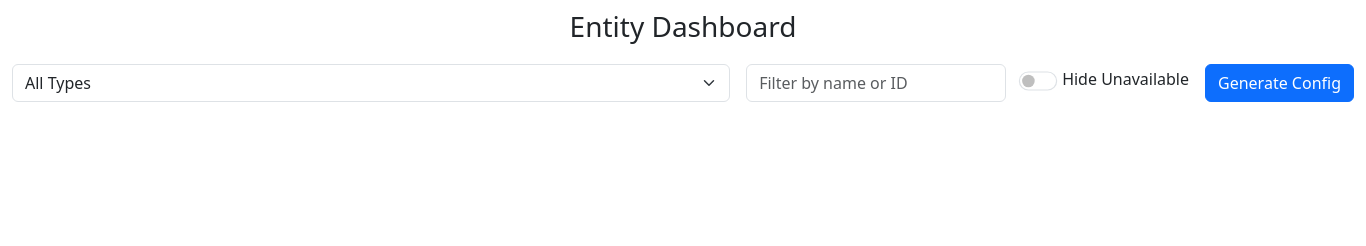
Test: RawEntityView.vue › Edge Cases › handles area without entities array
The image size is (1366, 246).
Select "area" in the dropdown at (371, 83), box [12, 64, 730, 102]
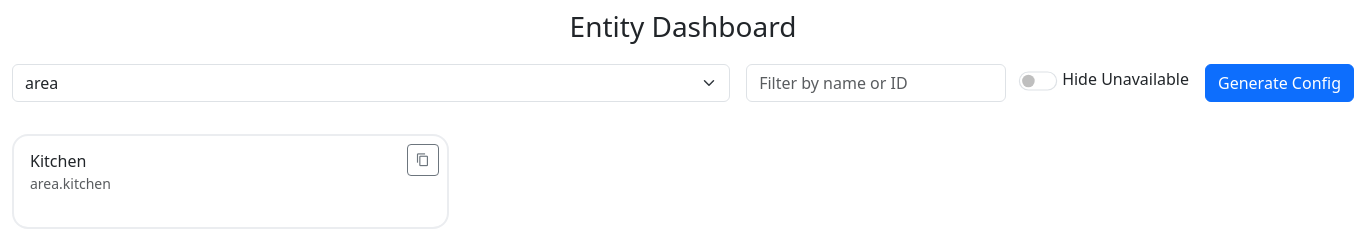
Check: the element with class "card-body" is shown, box [30, 144, 439, 193]
